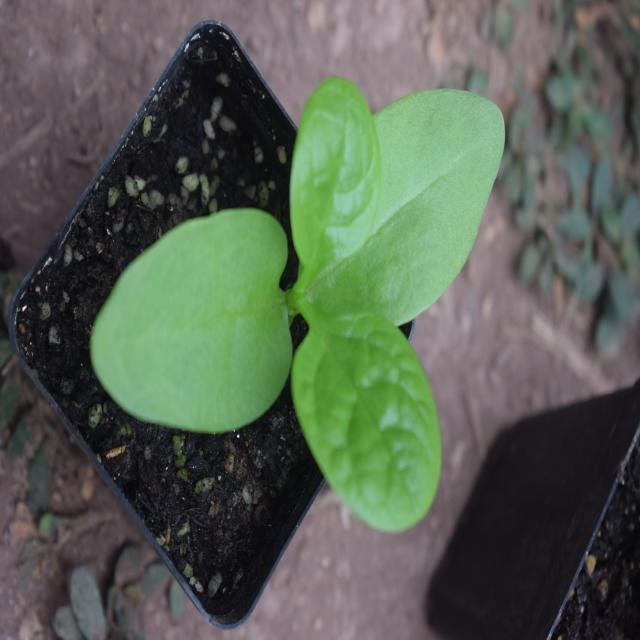Ceylon spinach: (130, 64, 507, 556)
